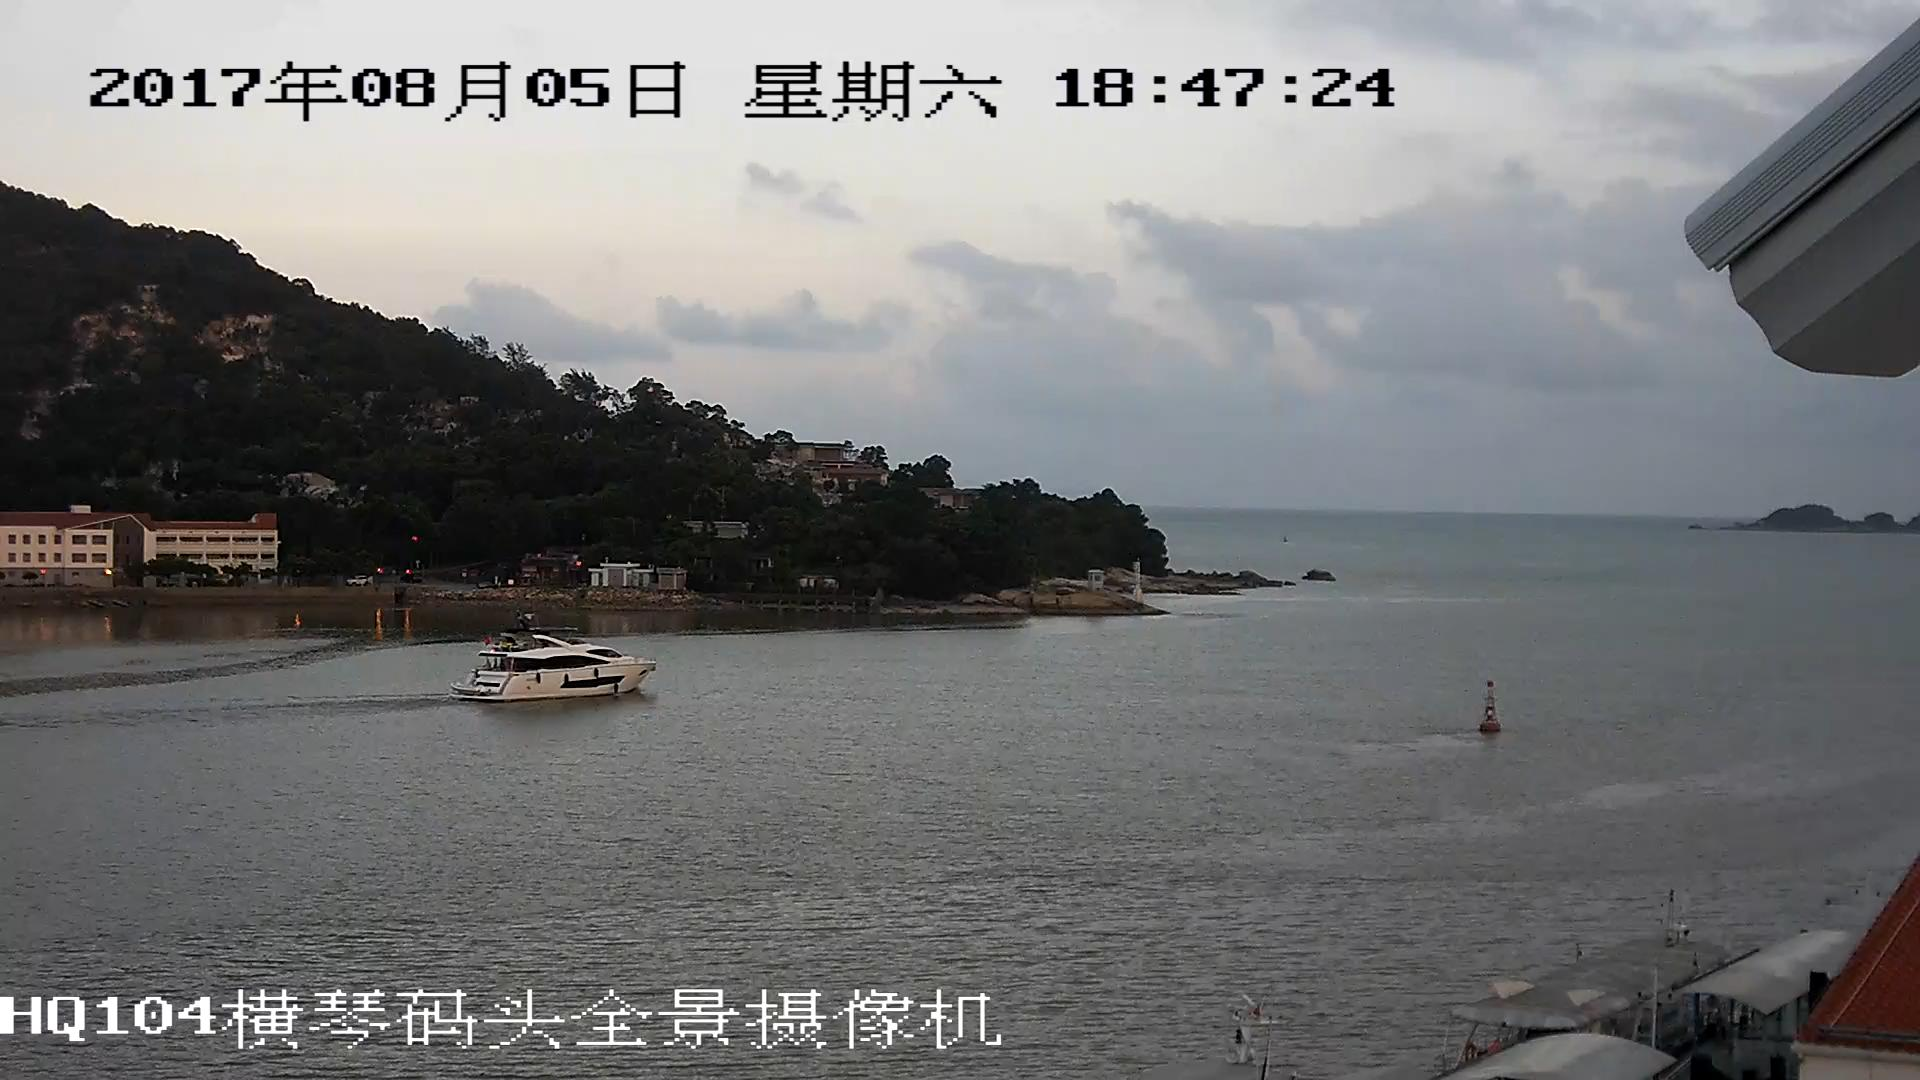passenger ship: (447, 622, 654, 701)
